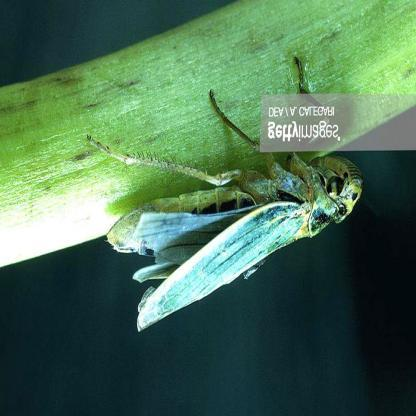green-leafhopper: (103, 147, 360, 333)
